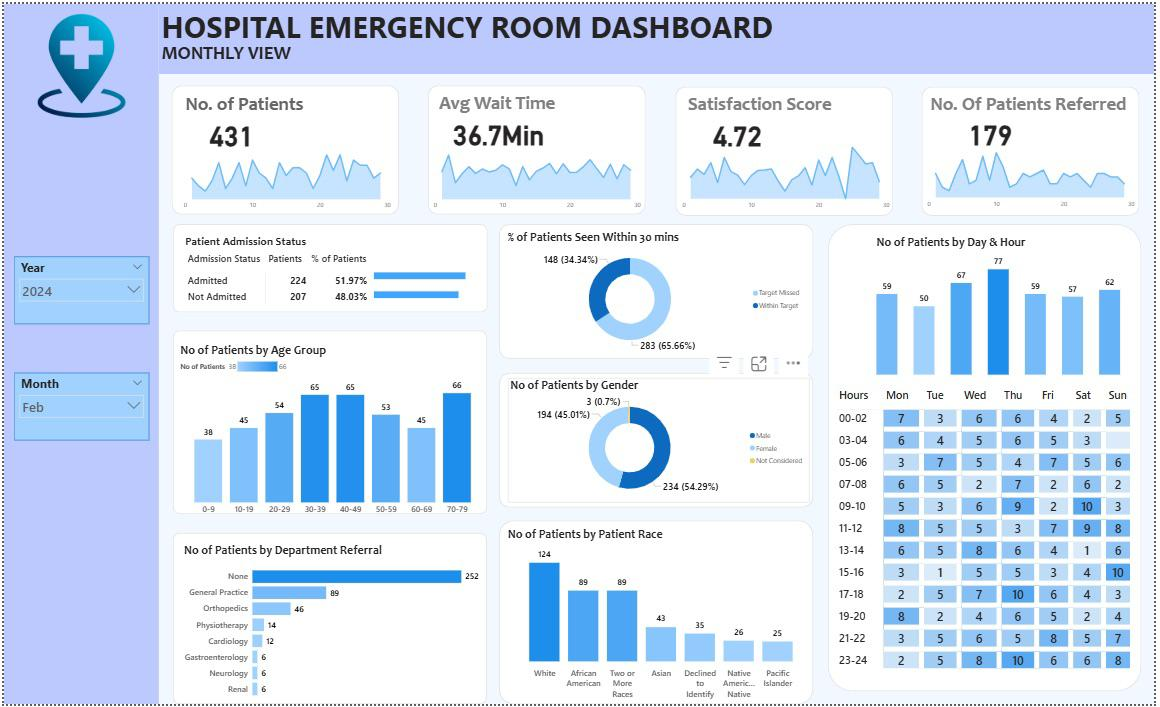

Layout of this report page (visuals, bound fields, positions):
{"tool":"powerbi","page":{"name":"Page 1","canvas":[2300,1400],"ordinal":0},"visuals":[{"type":"shape","box":[0,0,309.6,1400.5],"z":0},{"type":"shape","box":[310,0,1990,140],"z":1000},{"type":"textbox","box":[309.6,0,1298.9,99.2],"z":2000},{"type":"textbox","box":[309.6,70.1,362.8,91.9],"z":3000},{"type":"card","fields":{"Values":["Date Table.No of Patients"]},"box":[407.7,161.5,194.9,189.7],"z":4000},{"type":"slicer","fields":{"Values":["Date Table.Year"]},"box":[20,505,270,135],"z":5000},{"type":"slicer","fields":{"Values":["Date Table.Month"]},"box":[20,737.5,270,135],"z":6000},{"type":"shape","box":[335.9,161.5,455,259],"z":7000},{"type":"card","fields":{"Values":["Date Table.No of Patients"]},"box":[357.9,205.3,194.7,105.3],"z":8000},{"type":"textbox","box":[357.9,173.7,342.1,73.7],"z":9000},{"type":"areaChart","fields":{"Category":["Date Table.Date.Variation.Date Hierarchy.Day"],"Y":["Date Table.No of Patients"]},"box":[347.4,273.7,434.2,147.4],"z":10000},{"type":"shape","box":[848.6,161.5,435.9,259],"z":11000},{"type":"shape","box":[1342.3,164.1,435.9,259],"z":12000},{"type":"shape","box":[1835.9,164.1,435.9,259],"z":13000},{"type":"card","title":"Avg Wait Time","fields":{"Values":["Hospital ER_Data.Avg Wait Time"]},"box":[864.1,174.4,248.7,117.9],"z":14000},{"type":"areaChart","fields":{"Category":["Date Table.Date.Variation.Date Hierarchy.Day"],"Y":["Avg(Hospital ER_Data.Patient Waittime)"]},"box":[847.4,273.7,434.2,147.4],"z":15000},{"type":"card","title":"Satisfaction Score","fields":{"Values":["Hospital ER_Data.Satisfaction Score"]},"box":[1361.5,176.9,312.8,56.4],"z":16000},{"type":"card","title":"Avg Wait Time","fields":{"Values":["Hospital ER_Data.Satisfaction Score"]},"box":[1343.6,197.4,248.7,120.5],"z":17000},{"type":"areaChart","fields":{"Category":["Date Table.Date.Variation.Date Hierarchy.Day"],"Y":["Hospital ER_Data.Satisfaction Score"]},"box":[1344.7,273.7,434.2,147.4],"z":18000},{"type":"card","title":"No. Of Patients Referred","fields":{"Values":["Hospital ER_Data.Satisfaction Score"]},"box":[1847.4,176.3,426.3,57.9],"z":19000},{"type":"card","title":"Avg Wait Time","fields":{"Values":["Hospital ER_Data.No of Patient Referred"]},"box":[1847.4,194.7,250,121.1],"z":20000},{"type":"areaChart","fields":{"Category":["Date Table.Date.Variation.Date Hierarchy.Day"],"Y":["Hospital ER_Data.No of Patient Referred"]},"box":[1834.2,271.1,434.2,147.4],"z":21000},{"type":"shape","box":[336.8,439.5,630,177],"z":22000},{"type":"pivotTable","title":"Patient Admission Status","fields":{"Rows":["Hospital ER_Data.Admission Status"],"Values":["Date Table.No of Patients1","Date Table.No of Patients"]},"box":[357.9,460.5,423.7,194.7],"z":23000},{"type":"barChart","fields":{"Category":["Hospital ER_Data.Admission Status"],"Y":["Date Table.No of Patients"]},"box":[734.2,505.3,255.3,110.5],"z":24000},{"type":"shape","box":[336.8,653.2,628.9,368],"z":25000},{"type":"clusteredColumnChart","fields":{"Category":["Hospital ER_Data.Age Group"],"Y":["Date Table.No of Patients"]},"box":[347.4,676.3,621.1,355.3],"z":26000},{"type":"shape","box":[336.5,1057.1,628.6,342.9],"z":27000},{"type":"clusteredBarChart","fields":{"Category":["Hospital ER_Data.Department Referral"],"Y":["Date Table.No of Patients"]},"box":[355.3,1076.3,602.6,323.7],"z":28000},{"type":"shape","box":[989.5,439.5,628.9,270],"z":29000},{"type":"donutChart","title":"% of Patients Seen Within 30 mins","fields":{"Category":["Hospital ER_Data.Waittime Status"],"Y":["Date Table.No of Patients"]},"box":[1001.6,449.2,603.2,250.8],"z":30000},{"type":"shape","box":[988.9,738.1,628.6,269.8],"z":31000},{"type":"donutChart","title":"No of Patients by Gender","fields":{"Y":["Date Table.No of Patients"],"Category":["Hospital ER_Data.Patient Gender"]},"box":[1007.9,747.6,603.2,250.8],"z":32000},{"type":"shape","box":[988.9,1031.7,628.6,368.3],"z":33000},{"type":"lineStackedColumnComboChart","fields":{"Category":["Hospital ER_Data.Patient Race"],"Y":["Date Table.No of Patients"]},"box":[1001.6,1046,612.7,354],"z":34000},{"type":"shape","box":[1647.5,440,627.5,935],"z":35000},{"type":"pivotTable","fields":{"Rows":["Hospital ER_Data.Waittime Interval"],"Columns":["Date Table.Day"],"Values":["Date Table.No of Patients"]},"box":[1660,760,625,592.5],"z":36000},{"type":"columnChart","title":"No of Patients by Day & Hour","fields":{"Category":["Date Table.Day"],"Y":["Date Table.No of Patients"]},"box":[1740,460,500,287.5],"z":37000},{"type":"image","box":[37.5,15,235,217.5],"z":38000}]}

Visuals, with their boxes in screenshot pixels (x1, y1, x2, y2), scaled from the page's 2300x1400 canvas onto the 1160x707 screenshot:
shape: Rect(0, 0, 156, 706)
shape: Rect(156, 0, 1159, 71)
textbox: Rect(156, 0, 811, 50)
textbox: Rect(156, 35, 339, 82)
card - Date Table.No of Patients: Rect(206, 82, 304, 177)
slicer - Date Table.Year: Rect(10, 255, 146, 323)
slicer - Date Table.Month: Rect(10, 372, 146, 441)
shape: Rect(169, 82, 399, 212)
card - Date Table.No of Patients: Rect(181, 104, 279, 157)
textbox: Rect(181, 88, 353, 125)
areaChart - Date Table.Date.Variation.Date Hierarchy.Day x Date Table.No of Patients: Rect(175, 138, 394, 213)
shape: Rect(428, 82, 648, 212)
shape: Rect(677, 83, 897, 214)
shape: Rect(926, 83, 1146, 214)
"Avg Wait Time" card: Rect(436, 88, 561, 148)
areaChart - Date Table.Date.Variation.Date Hierarchy.Day x Avg(Hospital ER_Data.Patient Waittime): Rect(427, 138, 646, 213)
"Satisfaction Score" card: Rect(687, 89, 844, 118)
"Avg Wait Time" card: Rect(678, 100, 803, 161)
areaChart - Date Table.Date.Variation.Date Hierarchy.Day x Hospital ER_Data.Satisfaction Score: Rect(678, 138, 897, 213)
"No. Of Patients Referred" card: Rect(932, 89, 1147, 118)
"Avg Wait Time" card: Rect(932, 98, 1058, 159)
areaChart - Date Table.Date.Variation.Date Hierarchy.Day x Hospital ER_Data.No of Patient Referred: Rect(925, 137, 1144, 211)
shape: Rect(170, 222, 488, 311)
"Patient Admission Status" pivotTable: Rect(181, 233, 394, 331)
barChart - Hospital ER_Data.Admission Status x Date Table.No of Patients: Rect(370, 255, 499, 311)
shape: Rect(170, 330, 487, 516)
clusteredColumnChart - Hospital ER_Data.Age Group x Date Table.No of Patients: Rect(175, 342, 488, 521)
shape: Rect(170, 534, 487, 706)
clusteredBarChart - Hospital ER_Data.Department Referral x Date Table.No of Patients: Rect(179, 544, 483, 706)
shape: Rect(499, 222, 816, 358)
"% of Patients Seen Within 30 mins" donutChart: Rect(505, 227, 809, 354)
shape: Rect(499, 373, 816, 509)
"No of Patients by Gender" donutChart: Rect(508, 378, 813, 504)
shape: Rect(499, 521, 816, 706)
lineStackedColumnComboChart - Hospital ER_Data.Patient Race x Date Table.No of Patients: Rect(505, 528, 814, 706)
shape: Rect(831, 222, 1147, 694)
pivotTable - Hospital ER_Data.Waittime Interval x Date Table.Day: Rect(837, 384, 1152, 683)
"No of Patients by Day & Hour" columnChart: Rect(878, 232, 1130, 377)
image: Rect(19, 8, 137, 117)
